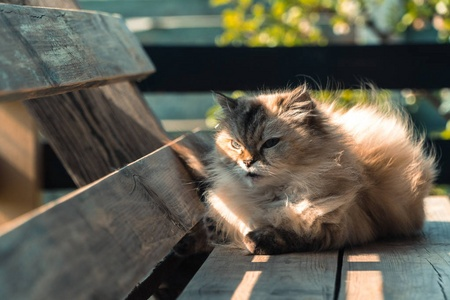cat: (199, 77, 436, 256)
